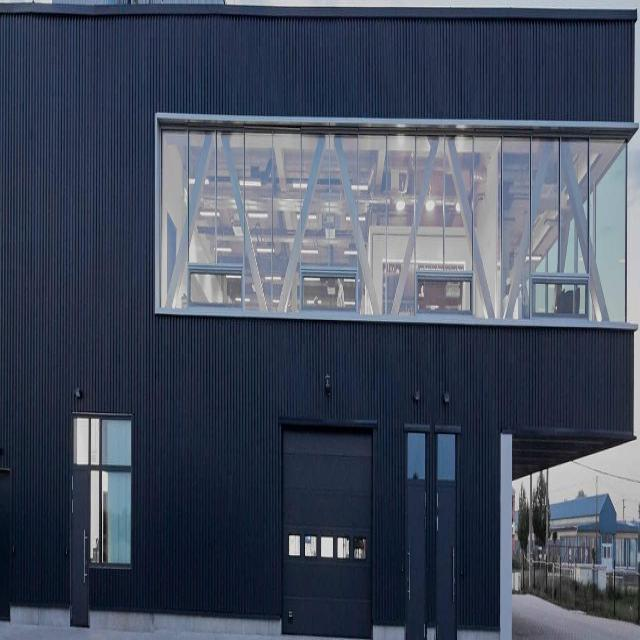door: (281, 425, 374, 637), (436, 428, 458, 638), (405, 428, 426, 639), (70, 465, 90, 628)
wall: (0, 1, 639, 636)
windows: (155, 113, 630, 324), (71, 412, 133, 564)
